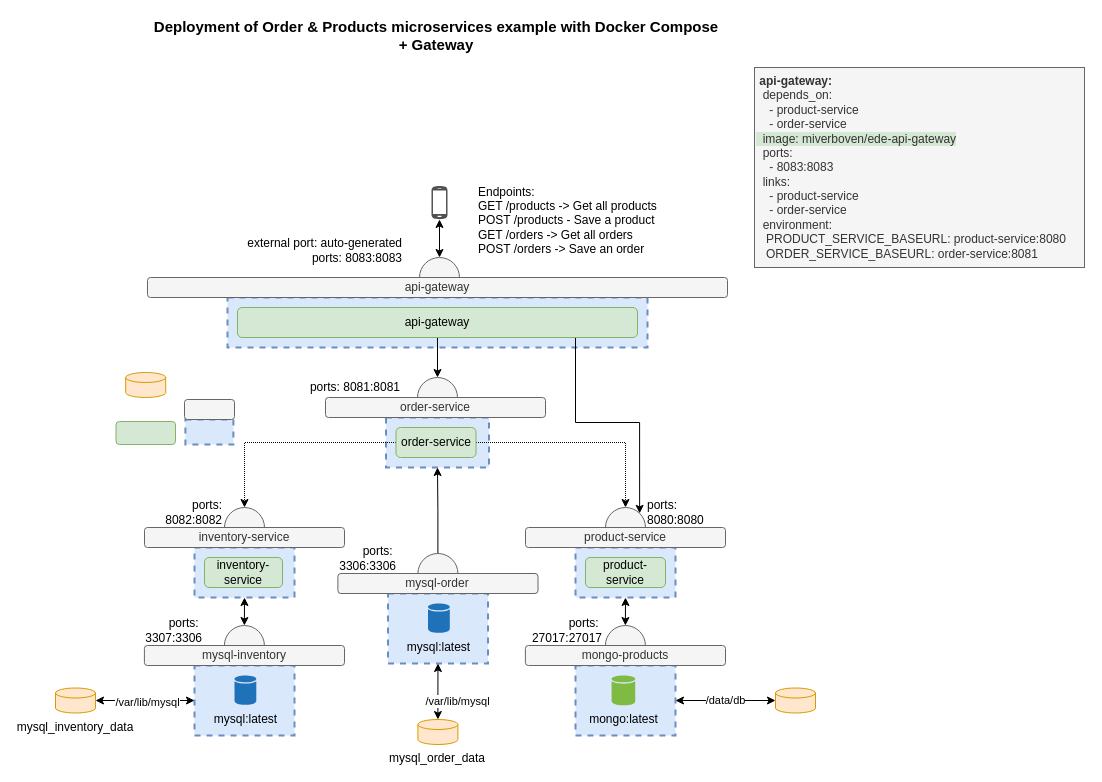
The diagram is 1102 pixels wide and 782 high, and some of its shapes have lost their labels. The shapes that lost their labels are listed below. From the top down, each one's centre as x and y in pixels, then its label:
(145,385): volume
(209,409): service
(145,432): container
(209,431): POD
(795,700): mongodb_product_data
